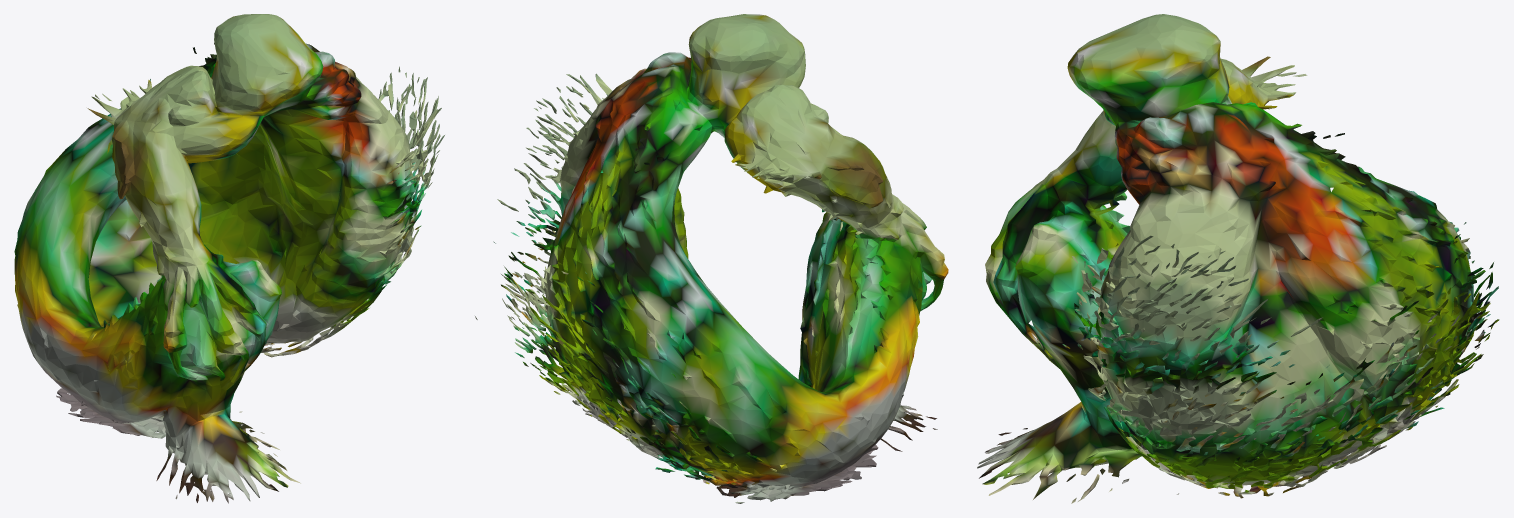
The model's file is poisonMoth.glb.
3 renders of one model, left to right at view 1: azimuth 30°, elevation 25°; view 2: azimuth 150°, elevation 25°; view 3: azimuth 270°, elevation 25°, orthographic. The views are drawn at different scales.
Parts seen in each view (by area): view 1: world; view 2: world; view 3: world.
Boxes of the visible parts, x1,y1,x2,y2 form: world: (14, 14, 444, 503); world: (475, 14, 948, 503); world: (977, 14, 1499, 503).
Size of the model in its own units: 0.9085 by 1 by 0.9643.
